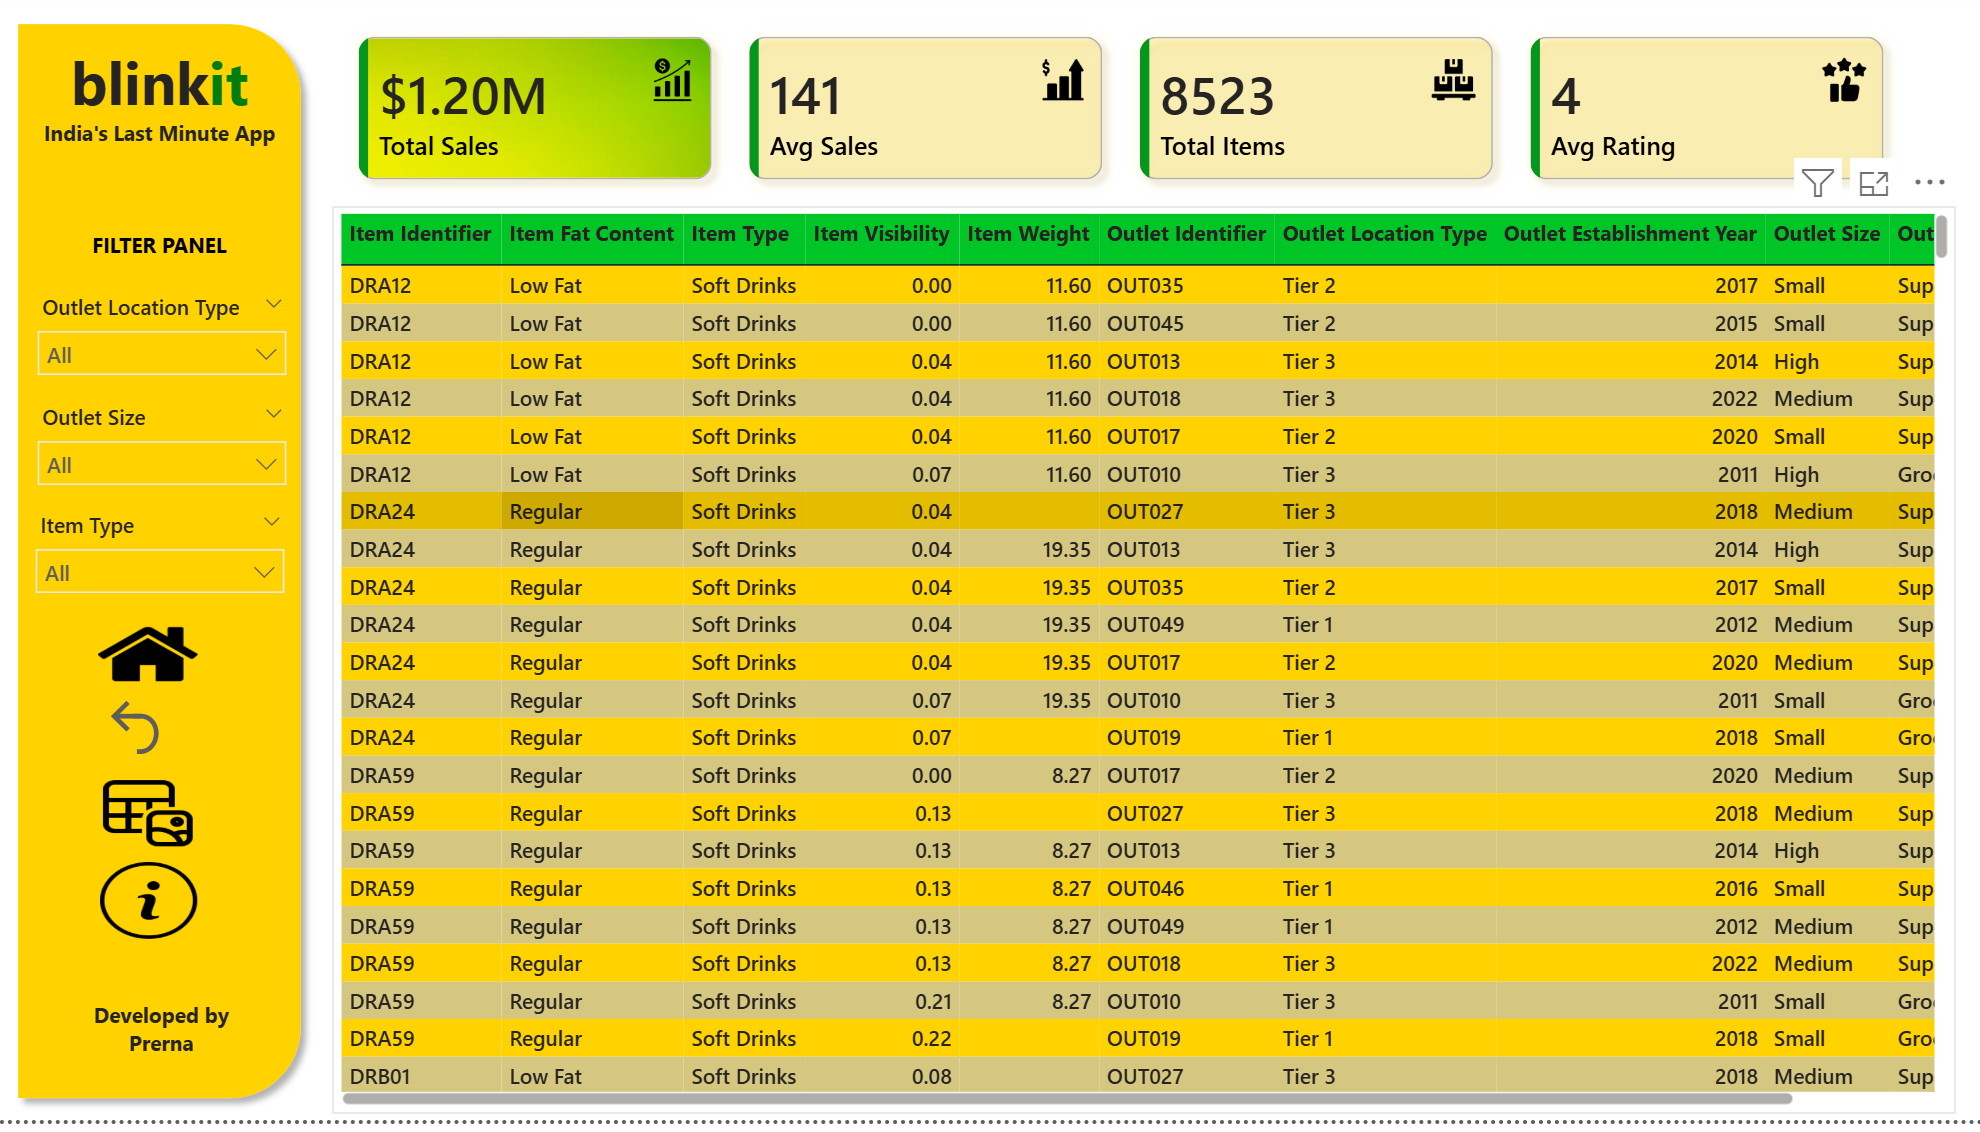

The dashboard page shown, as its layout file describes it:
{"tool":"powerbi","page":{"name":"Table","canvas":[1280,720],"ordinal":1},"visuals":[{"type":"shape","box":[10.6,13.2,198.1,702.7],"z":0},{"type":"textbox","box":[45.9,27.6,127.1,67.4],"z":1000},{"type":"textbox","box":[30.6,76.6,157.7,35.2],"z":2000},{"type":"slicer","fields":{"Values":["BlinkIT Grocery Data.Outlet Location Type"]},"box":[21.1,187.6,178.3,70],"z":3000},{"type":"slicer","fields":{"Values":["BlinkIT Grocery Data.Outlet Size"]},"box":[21.1,257.6,178.3,71.3],"z":4000},{"type":"slicer","fields":{"Values":["BlinkIT Grocery Data.Item Type"]},"box":[19.8,326.3,178.3,62.1],"z":5000},{"type":"textbox","box":[46.2,147.9,126.8,31.7],"z":6000},{"type":"actionButton","box":[70,401.6,63.4,43.6],"z":7000},{"type":"actionButton","box":[71.3,447.8,62.1,44.9],"z":8000},{"type":"actionButton","box":[71.3,556.1,62.1,48.9],"z":9000},{"type":"actionButton","box":[71.3,502,60.8,44.9],"z":10000},{"type":"textbox","box":[48.9,639.3,124.2,47.6],"z":11000},{"type":"cardVisual","fields":{"Data":["BlinkIT Grocery Data.Total Sales","BlinkIT Grocery Data.Avg Sales","BlinkIT Grocery Data.Total Items","BlinkIT Grocery Data.Avg Rating"]},"box":[219.3,13.2,1007.9,125.5],"z":12000},{"type":"tableEx","fields":{"Values":["BlinkIT Grocery Data.Item Identifier","BlinkIT Grocery Data.Item Fat Content","BlinkIT Grocery Data.Item Type","BlinkIT Grocery Data.Item Visibility","BlinkIT Grocery Data.Item Weight","BlinkIT Grocery Data.Outlet Identifier","BlinkIT Grocery Data.Outlet Location Type","BlinkIT Grocery Data.Outlet Establishment Year","BlinkIT Grocery Data.Outlet Size","BlinkIT Grocery Data.Outlet Type"]},"box":[219.3,137.4,1035.6,578.6],"z":13000}]}

Visuals, with their boxes in screenshot pixels (x1, y1, x2, y2), scaled from the page's 1280x720 canvas onto the 1980x1132 screenshot:
shape: <region>16, 21, 323, 1126</region>
textbox: <region>71, 43, 268, 149</region>
textbox: <region>47, 120, 291, 176</region>
slicer - BlinkIT Grocery Data.Outlet Location Type: <region>33, 295, 308, 405</region>
slicer - BlinkIT Grocery Data.Outlet Size: <region>33, 405, 308, 517</region>
slicer - BlinkIT Grocery Data.Item Type: <region>31, 513, 306, 611</region>
textbox: <region>71, 233, 268, 282</region>
actionButton: <region>108, 631, 206, 700</region>
actionButton: <region>110, 704, 206, 775</region>
actionButton: <region>110, 874, 206, 951</region>
actionButton: <region>110, 789, 204, 860</region>
textbox: <region>76, 1005, 268, 1080</region>
cardVisual - BlinkIT Grocery Data.Total Sales x BlinkIT Grocery Data.Avg Sales: <region>339, 21, 1898, 218</region>
tableEx - BlinkIT Grocery Data.Item Identifier x BlinkIT Grocery Data.Item Fat Content: <region>339, 216, 1941, 1126</region>
